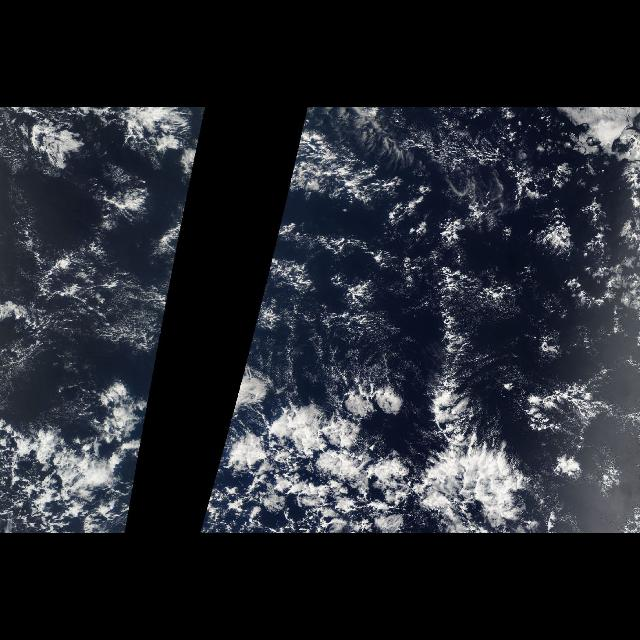Fish: (400, 308, 496, 528), (92, 108, 206, 214), (283, 108, 393, 214)
Flower: (199, 376, 531, 530), (56, 376, 154, 530)
Gravel: (243, 135, 634, 381), (39, 182, 191, 358), (2, 431, 146, 531), (200, 431, 320, 531)
Sugar: (259, 239, 506, 379)
